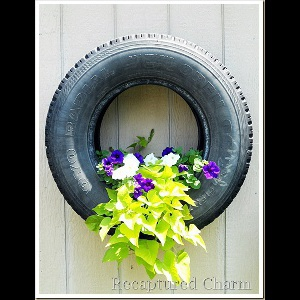tire: (47, 33, 253, 243)
